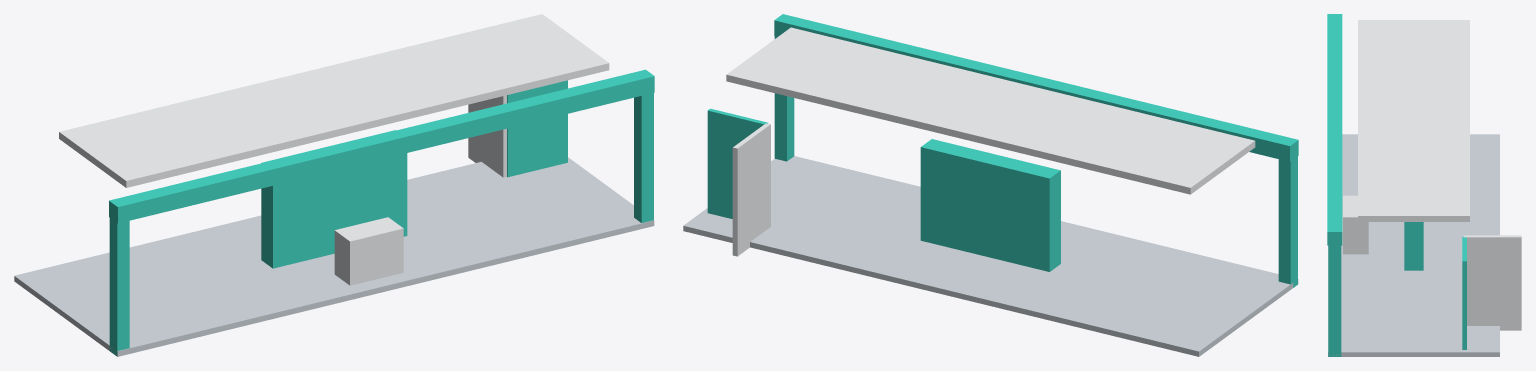
3 renders of one model, left to right at view 1: azimuth 30°, elevation 25°; view 2: azimuth 150°, elevation 25°; view 3: azimuth 270°, elevation 25°, orthographic. The views are drawn at different scales.
Parts seen in each view (by area): view 1: Exhibition Booth Concept; view 2: Exhibition Booth Concept; view 3: Exhibition Booth Concept.
Boxes of the visible parts, bbox=[...] form: Exhibition Booth Concept: bbox=[14, 14, 654, 356]; Exhibition Booth Concept: bbox=[683, 14, 1298, 356]; Exhibition Booth Concept: bbox=[1327, 14, 1521, 356].
Bounding box in the file's own units: 12 × 3.34 × 4.52.
